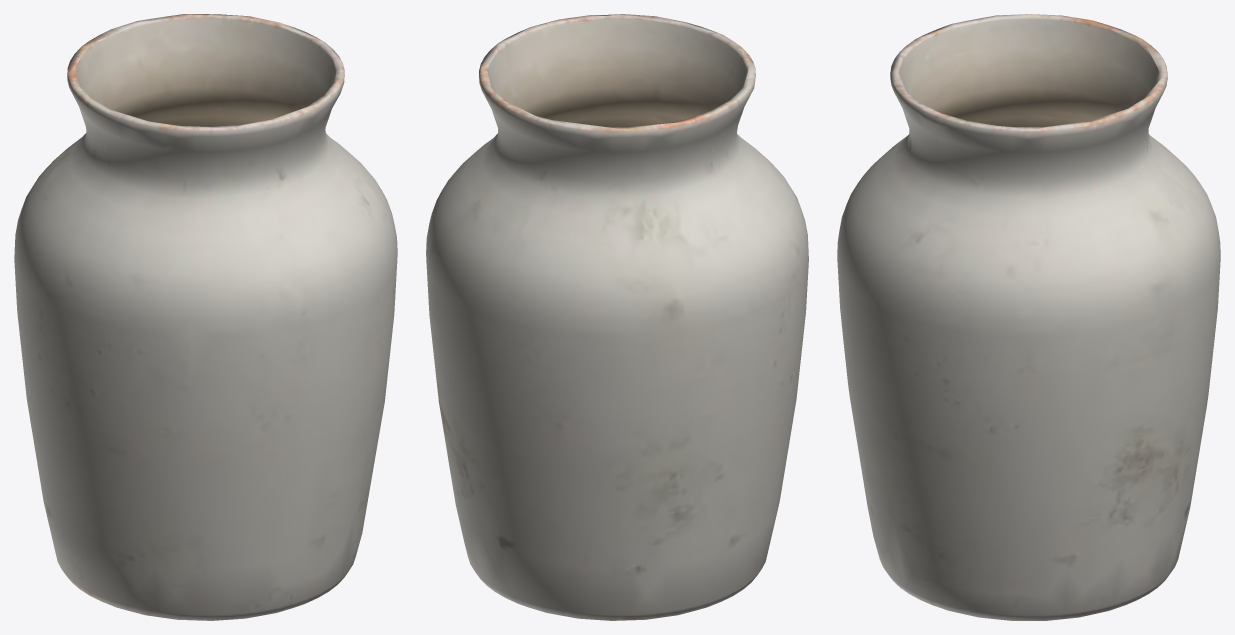
File: ceramic_vase_02.glb
3 renders of one model, left to right at view 1: azimuth 30°, elevation 25°; view 2: azimuth 150°, elevation 25°; view 3: azimuth 270°, elevation 25°, orthographic.
Visible parts, largest first — view 1: ceramic_vase_02; view 2: ceramic_vase_02; view 3: ceramic_vase_02.
Boxes of the visible parts, x1,y1,x2,y2 form: ceramic_vase_02: (14, 14, 397, 620); ceramic_vase_02: (426, 14, 808, 620); ceramic_vase_02: (837, 14, 1220, 620).
Size of the model in its own units: 0.2184 by 0.3091 by 0.2184.
1 material, 1 textured.
